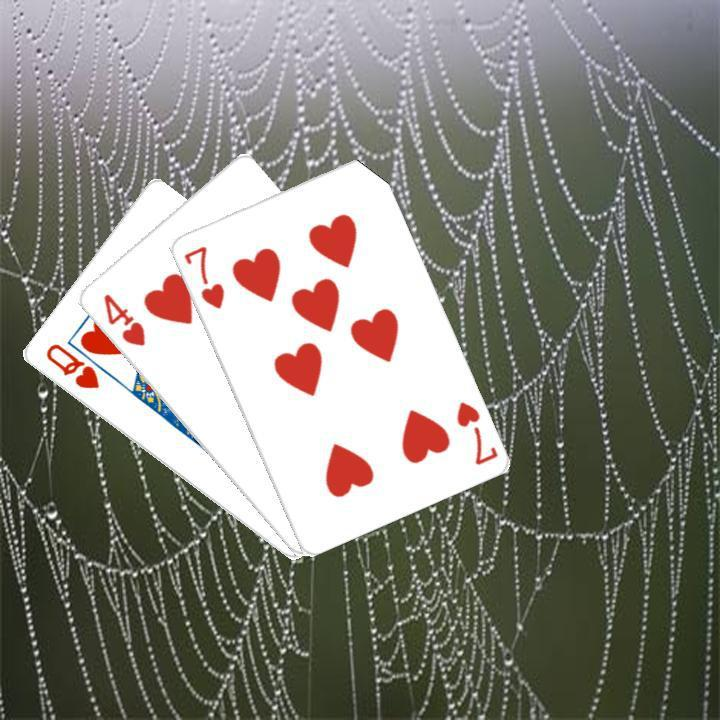4: (98, 289, 147, 348)
7: (451, 397, 500, 468), (178, 241, 226, 311)
Q: (40, 339, 101, 392)
